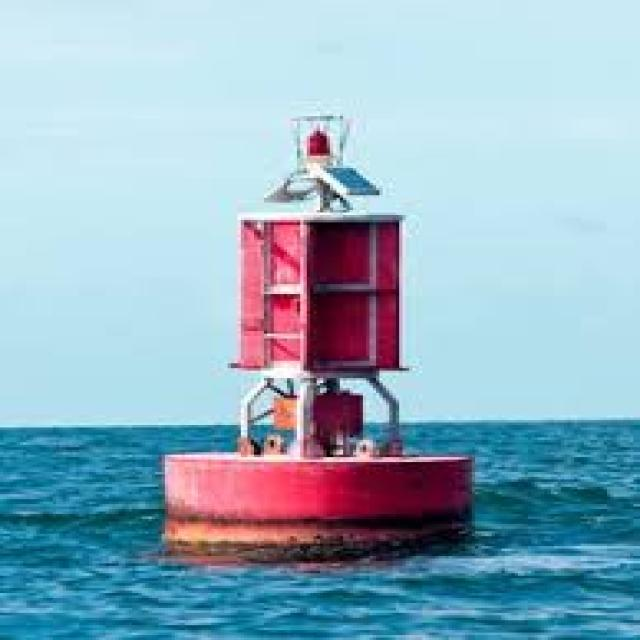2.1 lateral mark -P-: (118, 92, 489, 574)
